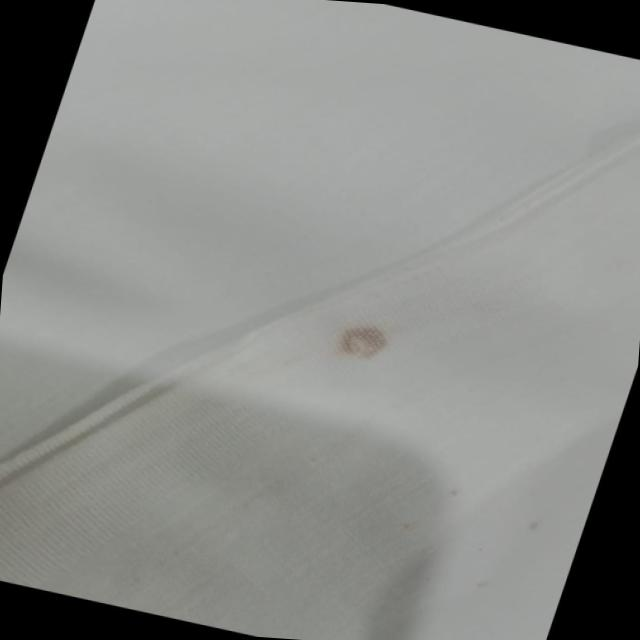stain: (312, 306, 412, 379)
